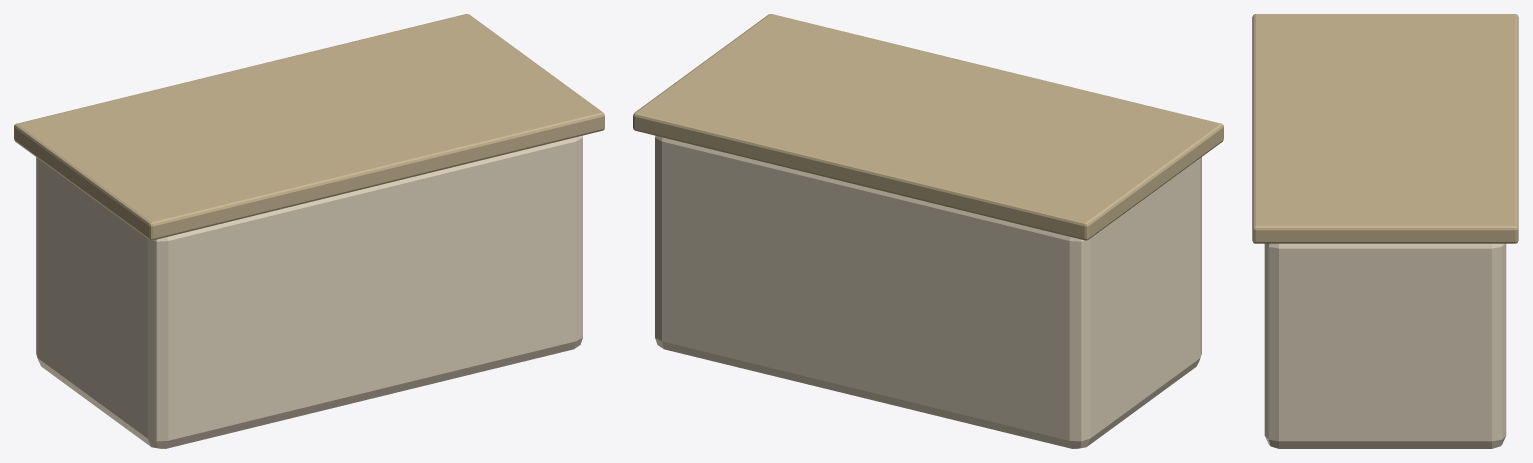
The model's file is Parkour_Box.fbx.
3 renders of one model, left to right at view 1: azimuth 30°, elevation 25°; view 2: azimuth 150°, elevation 25°; view 3: azimuth 270°, elevation 25°, orthographic. The views are drawn at different scales.
Parts seen in each view (by area): view 1: Box; view 2: Box; view 3: Box.
Boxes of the visible parts, left/top/right/bottom form: Box: left=14, top=14, right=604, bottom=448; Box: left=633, top=14, right=1223, bottom=448; Box: left=1252, top=14, right=1518, bottom=448.
Size of the model in its own units: 2.1 by 1.06 by 1.1.
